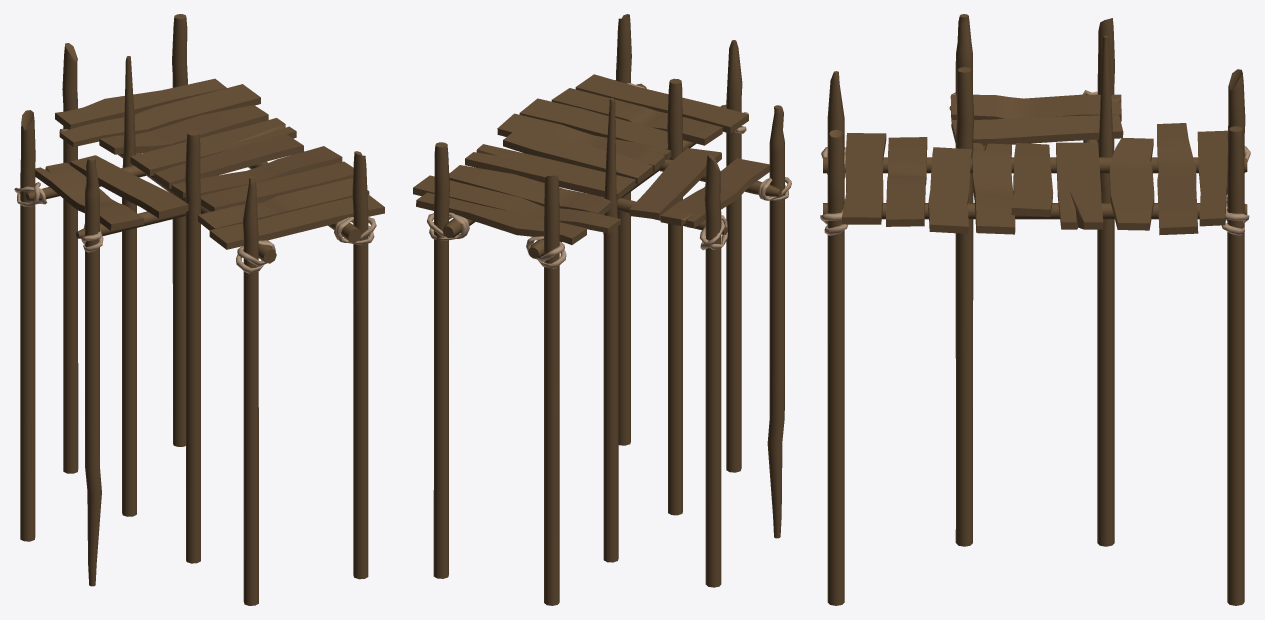
The model's file is woodenBridge_threeWay_mesh.fbx.
3 views of the same model, side by side, from view 1: azimuth 30°, elevation 25°; view 2: azimuth 150°, elevation 25°; view 3: azimuth 270°, elevation 25° (orthographic). The views are drawn at different scales.
Visible parts, largest first — view 1: threeWay; view 2: threeWay; view 3: threeWay.
Boxes of the visible parts, <box> form: threeWay: <box>14,14,384,605</box>; threeWay: <box>413,14,791,605</box>; threeWay: <box>820,14,1250,605</box>.
Size of the model in its own units: 0.8095 by 1.32 by 1.01.
